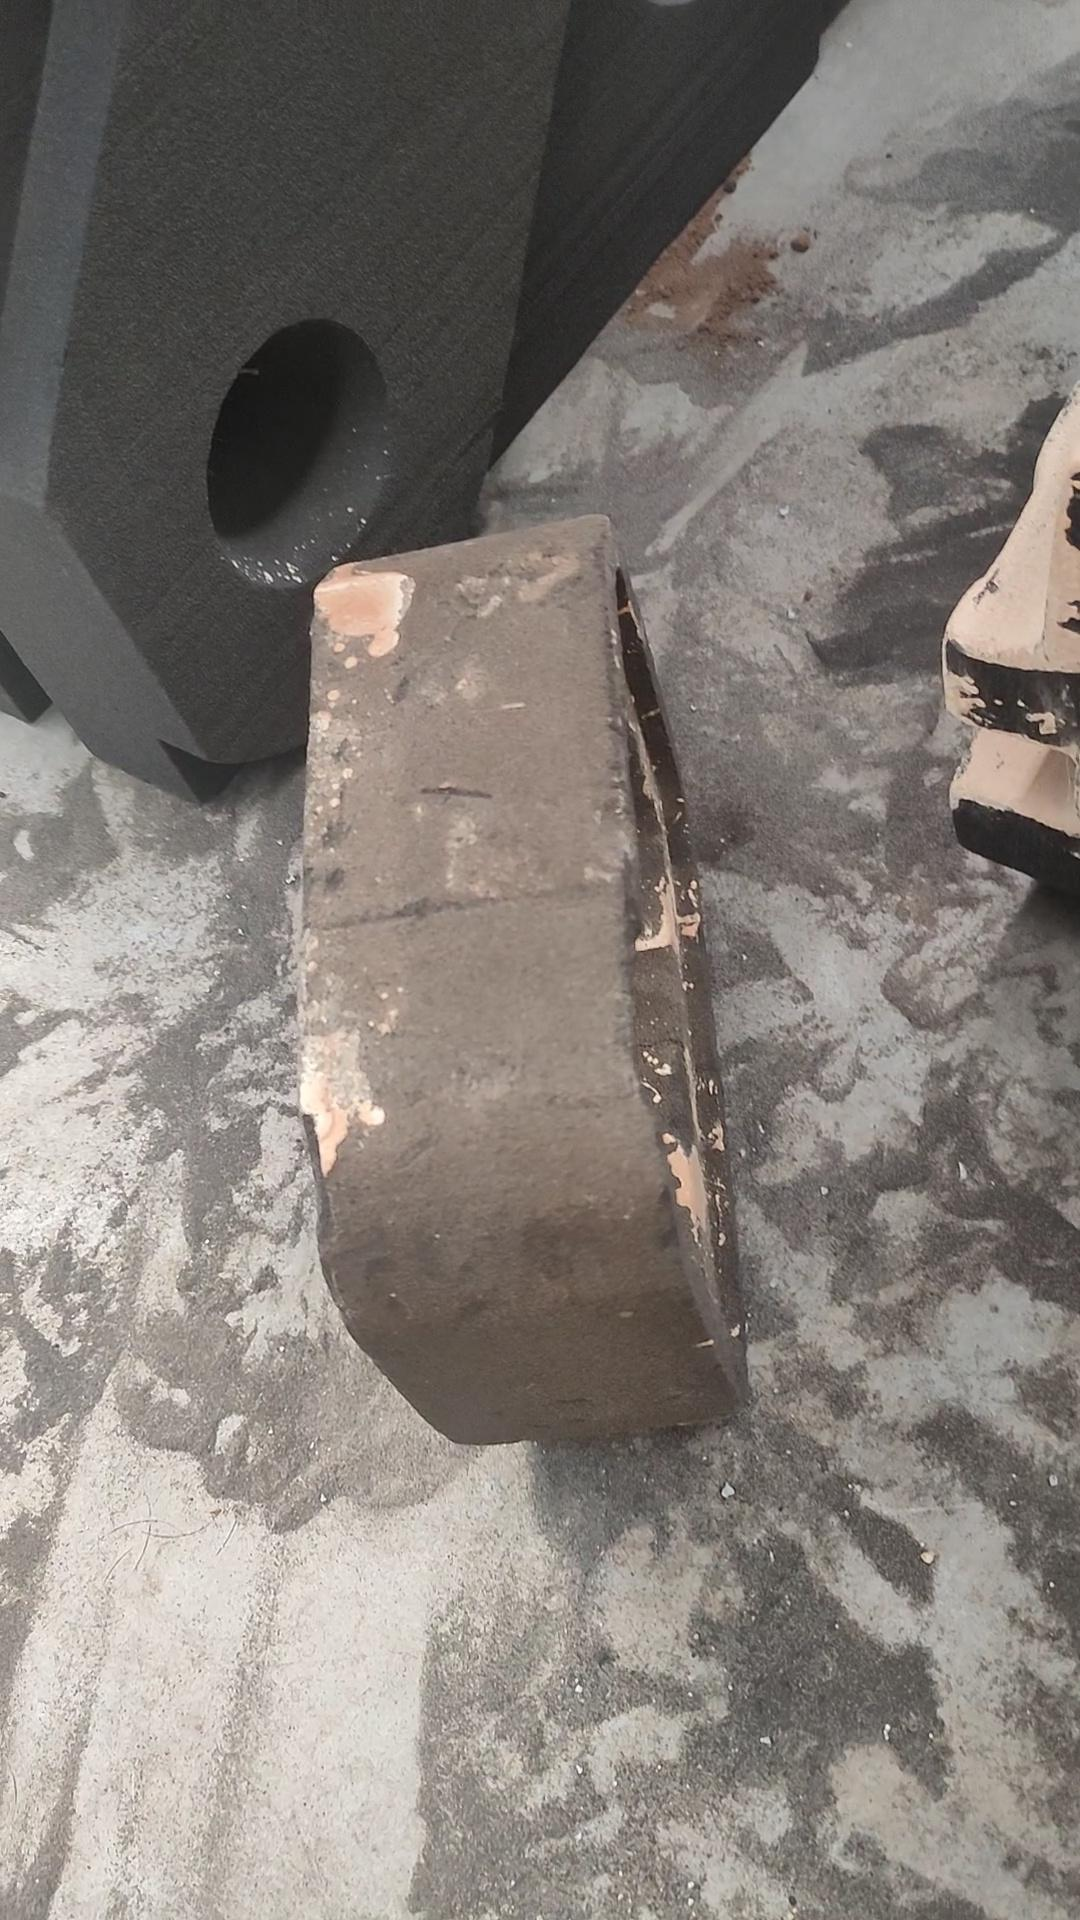pouring hole: (207, 320, 390, 588)
